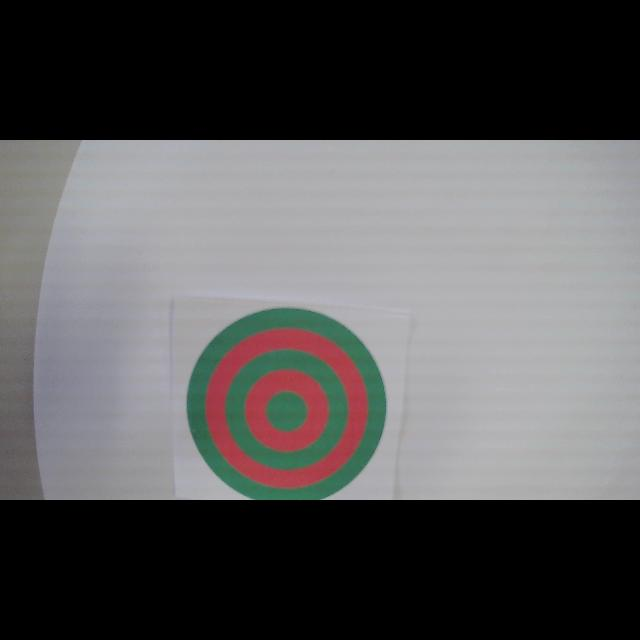COGNITIVE: (187, 306, 387, 499)
